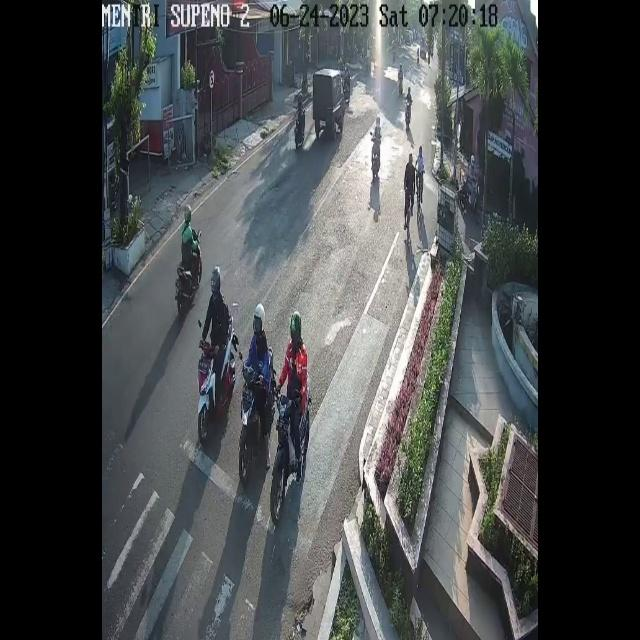bus: (270, 371, 310, 524), (196, 315, 239, 445), (239, 347, 277, 482), (176, 229, 202, 316), (458, 176, 484, 226), (294, 107, 305, 149), (371, 135, 381, 179), (404, 100, 411, 128)
truck: (312, 68, 346, 141)
